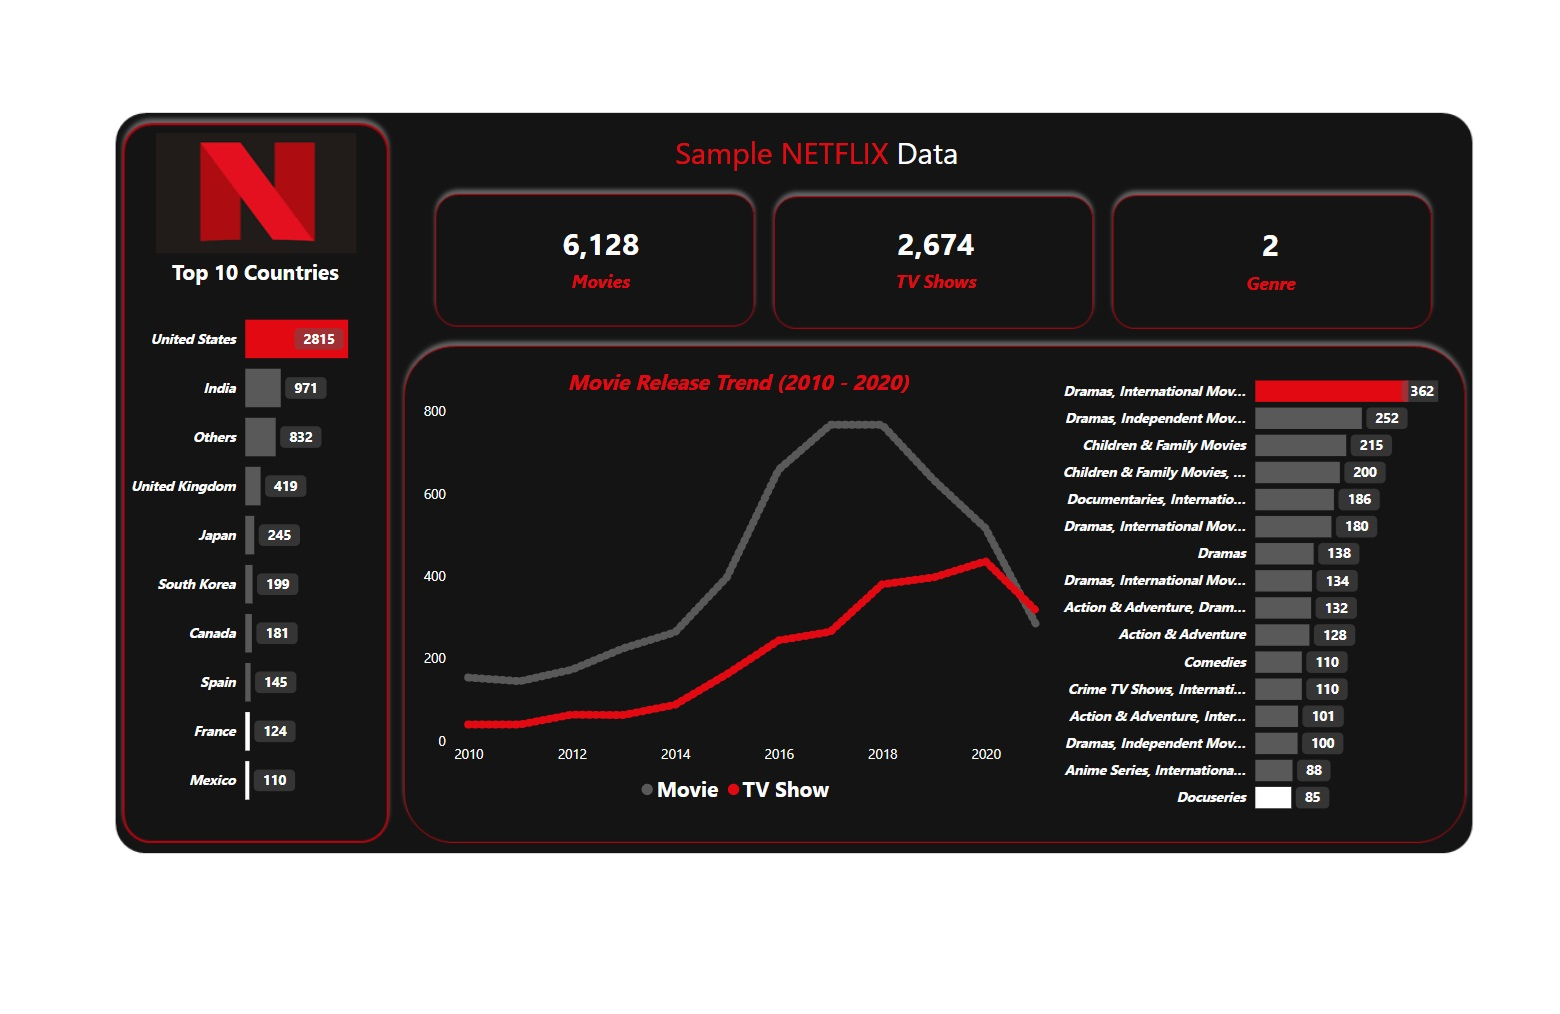

The page's visual inventory and layout, read from the dashboard file:
{"tool":"powerbi","page":{"name":"Page 1","canvas":[1280,720],"ordinal":0},"visuals":[{"type":"lineChart","title":"Movie Release Trend (2010 - 2020)","fields":{"Category":["netflix_titles.Release_Year"],"Y":["CountNonNull(netflix_titles.Genre)"],"Series":["netflix_titles.Genre"]},"box":[305.6,243.3,568.9,396.7],"z":0},{"type":"clusteredBarChart","title":"Top 10 Countries","fields":{"Category":["netflix_titles.Country"],"Y":["CountNonNull(netflix_titles.Title)"]},"box":[43.9,145.5,233.3,505],"z":1},{"type":"card","fields":{"Values":["Date Table.MovieCount"]},"box":[359.5,98.8,216.8,91.9],"z":2},{"type":"card","fields":{"Values":["Date Table.TV show count"]},"box":[657.3,98.8,216.8,91.9],"z":3},{"type":"card","fields":{"Values":["Count(netflix_titles.Genre)"]},"box":[955.1,100.2,216.8,91.9],"z":4},{"type":"textbox","box":[529,29,414,50],"z":5},{"type":"clusteredBarChart","fields":{"Category":["netflix_titles.Listed_In"],"Y":["CountNonNull(netflix_titles.show_id)"]},"box":[862.2,232.2,355.6,417.8],"z":6}]}

Visuals, with their boxes on the page's 1280x720 design canvas (x1, y1, x2, y2). These are canvas units, not pixel positions in the 1560x1014 screenshot, which may show the page scaled, cropped or inside an application window:
"Movie Release Trend (2010 - 2020)" lineChart: crop(306, 243, 874, 640)
"Top 10 Countries" clusteredBarChart: crop(44, 146, 277, 650)
card - Date Table.MovieCount: crop(360, 99, 576, 191)
card - Date Table.TV show count: crop(657, 99, 874, 191)
card - Count(netflix_titles.Genre): crop(955, 100, 1172, 192)
textbox: crop(529, 29, 943, 79)
clusteredBarChart - netflix_titles.Listed_In x CountNonNull(netflix_titles.show_id): crop(862, 232, 1218, 650)
